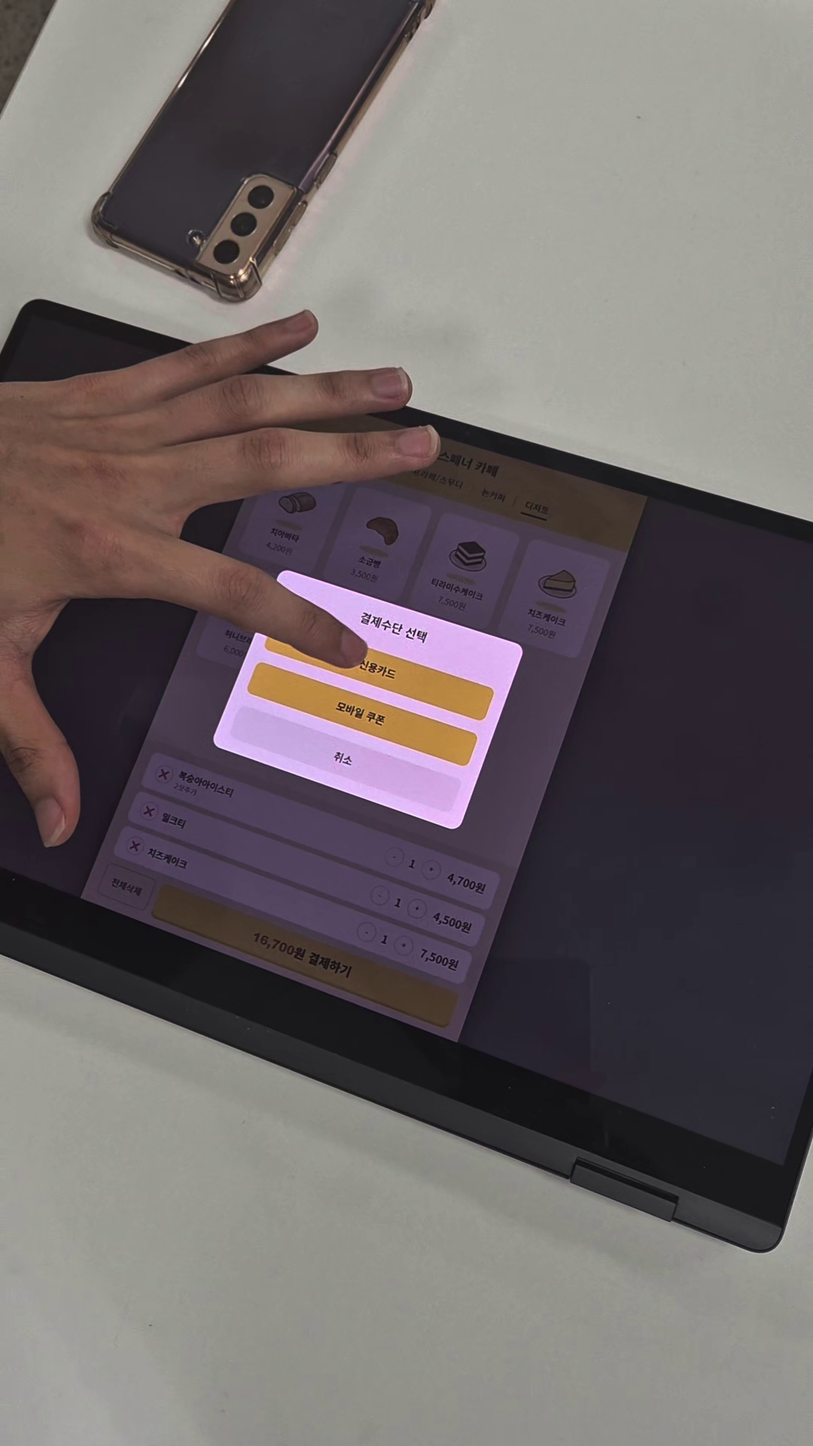action_button: (149, 883, 461, 1030), (228, 704, 463, 814), (244, 661, 479, 768), (263, 616, 496, 722), (97, 862, 156, 911)
cart_item: (113, 825, 474, 985), (140, 752, 503, 911), (126, 790, 487, 948)
category_tab: (409, 466, 465, 491), (522, 499, 552, 518), (480, 487, 507, 504)
menu_back: (496, 536, 611, 660), (407, 510, 522, 631), (321, 484, 434, 603), (236, 456, 348, 574)
menu_name: (176, 769, 235, 799), (429, 577, 484, 602), (444, 870, 488, 897), (429, 910, 474, 936), (416, 947, 461, 973), (145, 846, 190, 871), (526, 607, 569, 628), (269, 526, 301, 544), (159, 812, 187, 830), (356, 554, 383, 570)
menu_price: (525, 622, 557, 641), (436, 594, 467, 613), (348, 567, 380, 585), (263, 540, 295, 558)
popup_modal: (211, 567, 526, 832)
